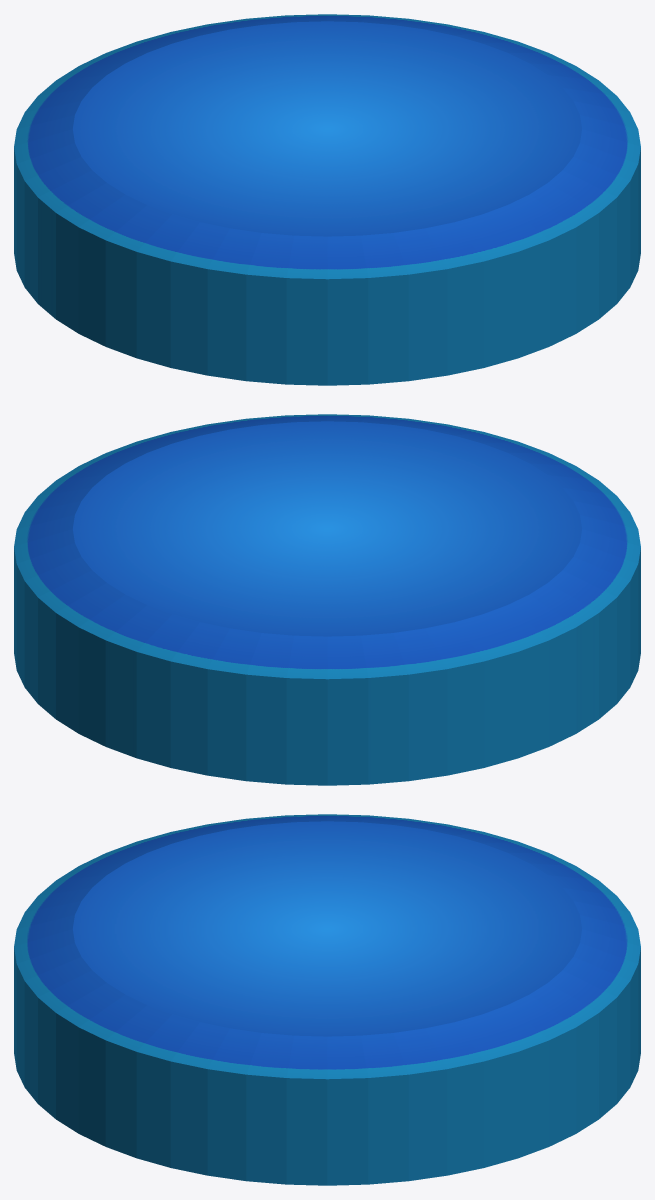
3 renders of one model, top to bottom at view 1: azimuth 30°, elevation 25°; view 2: azimuth 150°, elevation 25°; view 3: azimuth 270°, elevation 25°, orthographic.
Parts seen in each view (by area): view 1: Shape_Circle; view 2: Shape_Circle; view 3: Shape_Circle.
Part boxes in pixels (bbox=[...]): Shape_Circle: bbox=[14, 14, 640, 385]; Shape_Circle: bbox=[14, 414, 640, 785]; Shape_Circle: bbox=[14, 814, 640, 1185].
Bounding box in the file's own units: 0.64 × 0.16 × 0.64.
1 material, 1 textured.
